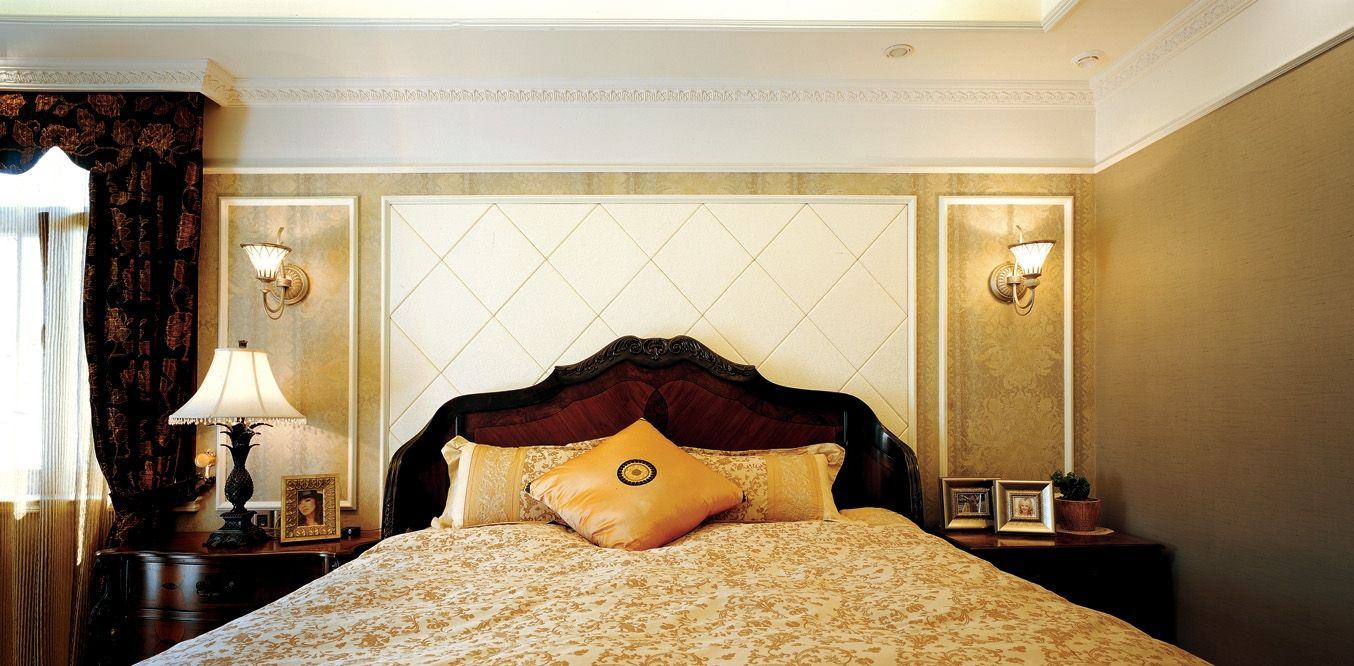床: (184, 513, 1220, 661)
枕头: (443, 421, 847, 552)
灯: (167, 341, 294, 531), (235, 234, 303, 329), (988, 228, 1056, 318), (1069, 48, 1106, 75), (884, 41, 924, 63)
